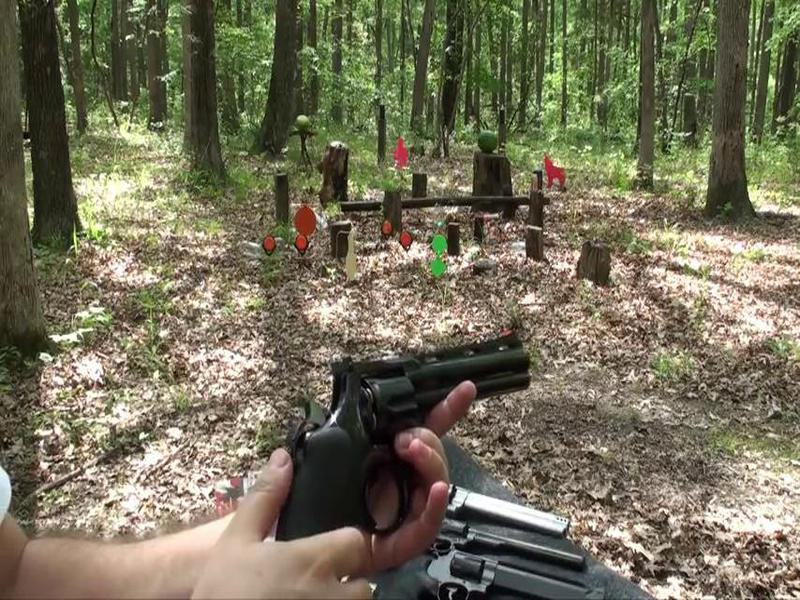Revolver: (248, 332, 547, 600)
